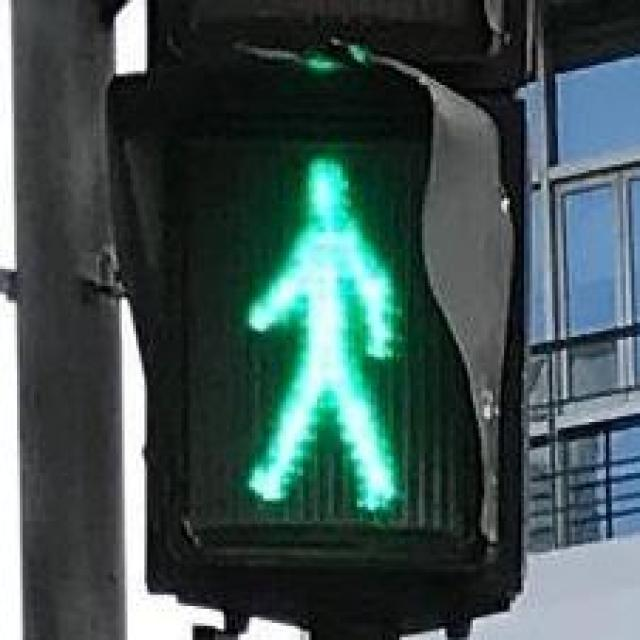geen-crossing: (178, 105, 459, 532)
